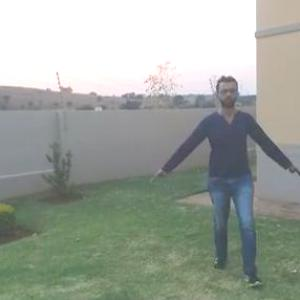land: (154, 71, 296, 272)
